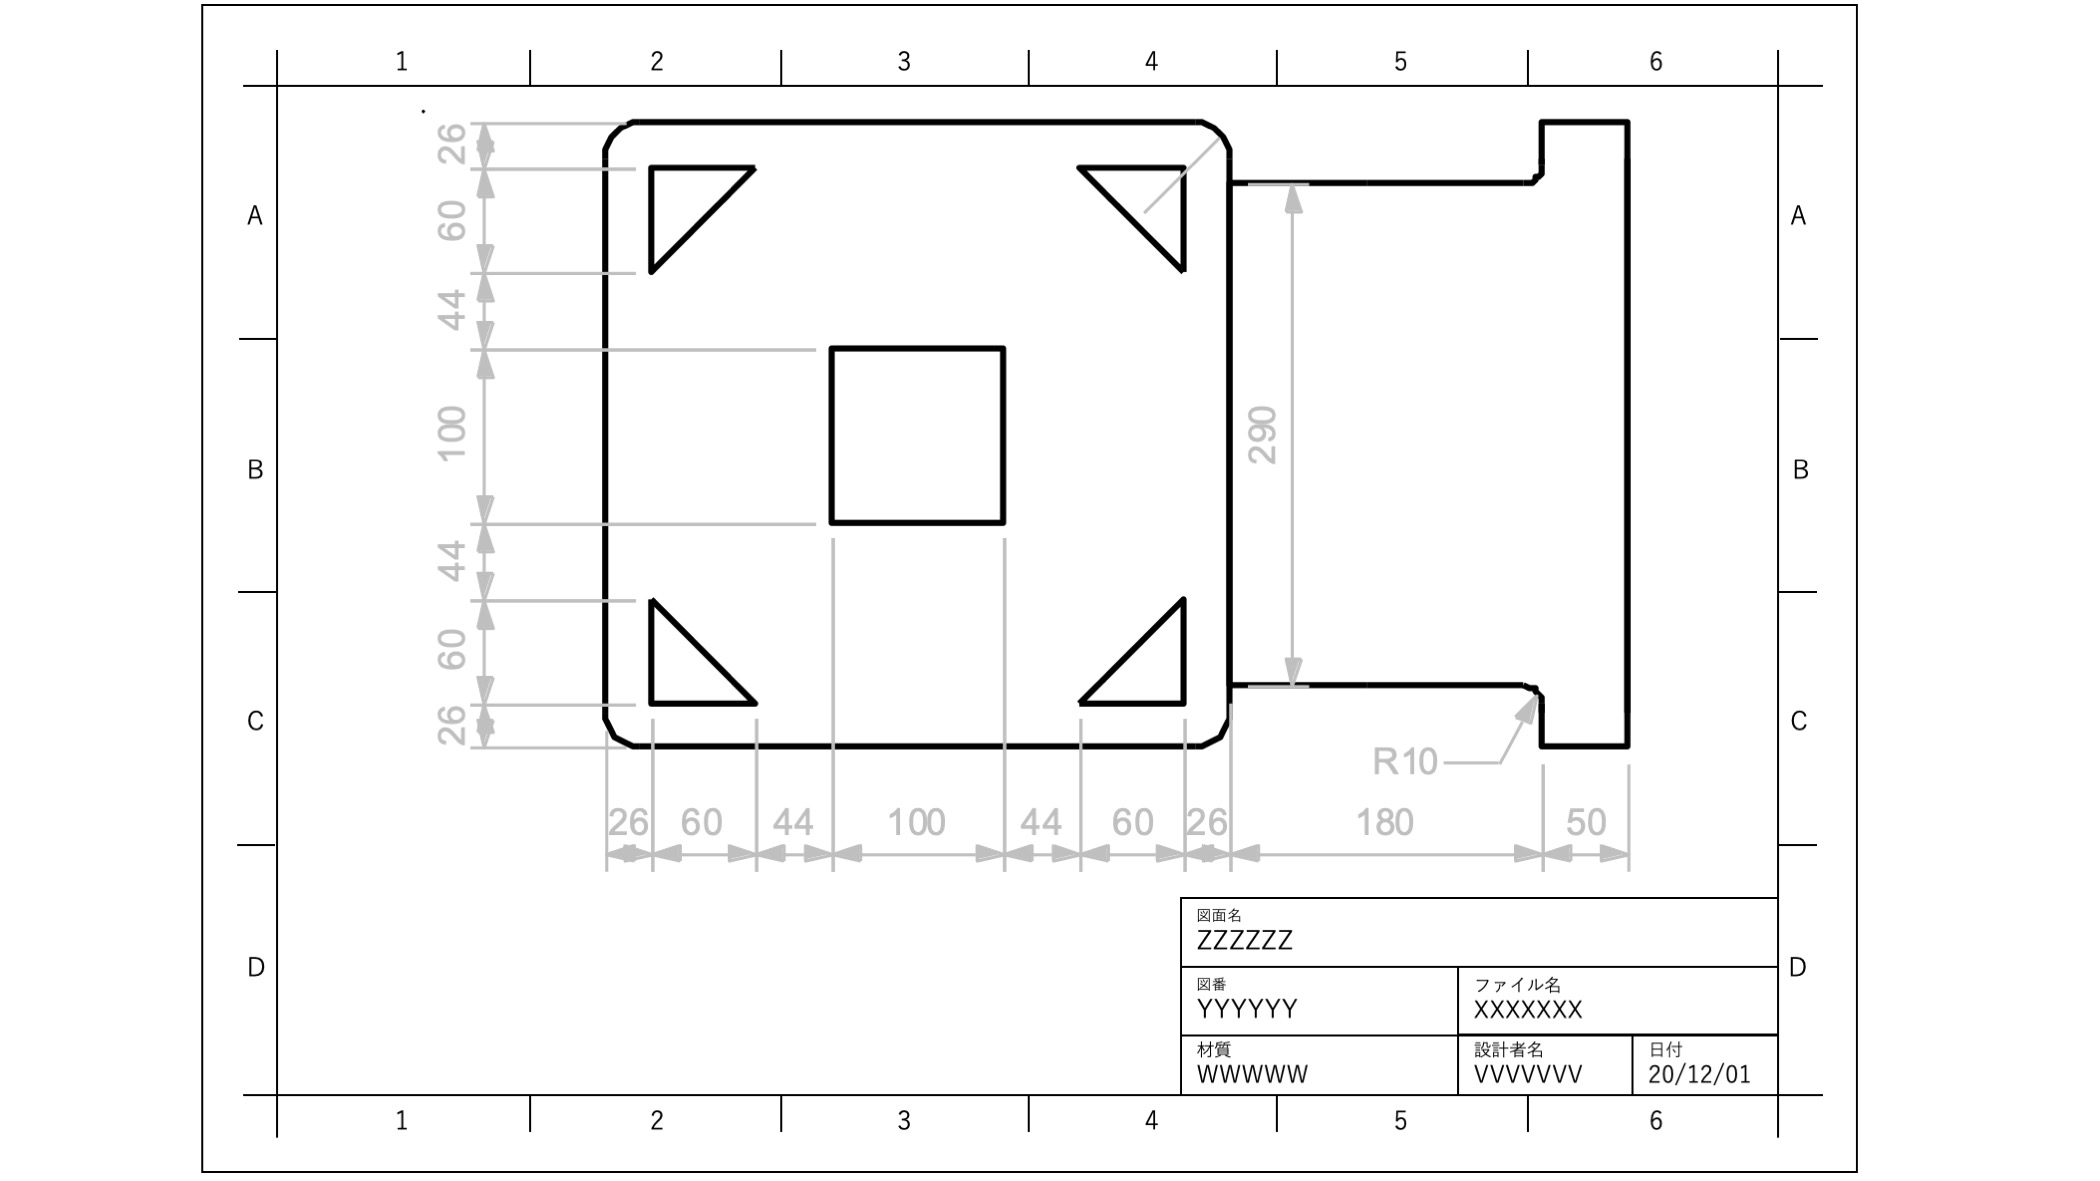rectangle: (821, 320, 1014, 536)
triangle: (1072, 581, 1196, 712), (1067, 154, 1199, 277), (640, 156, 766, 281), (645, 580, 759, 712)
